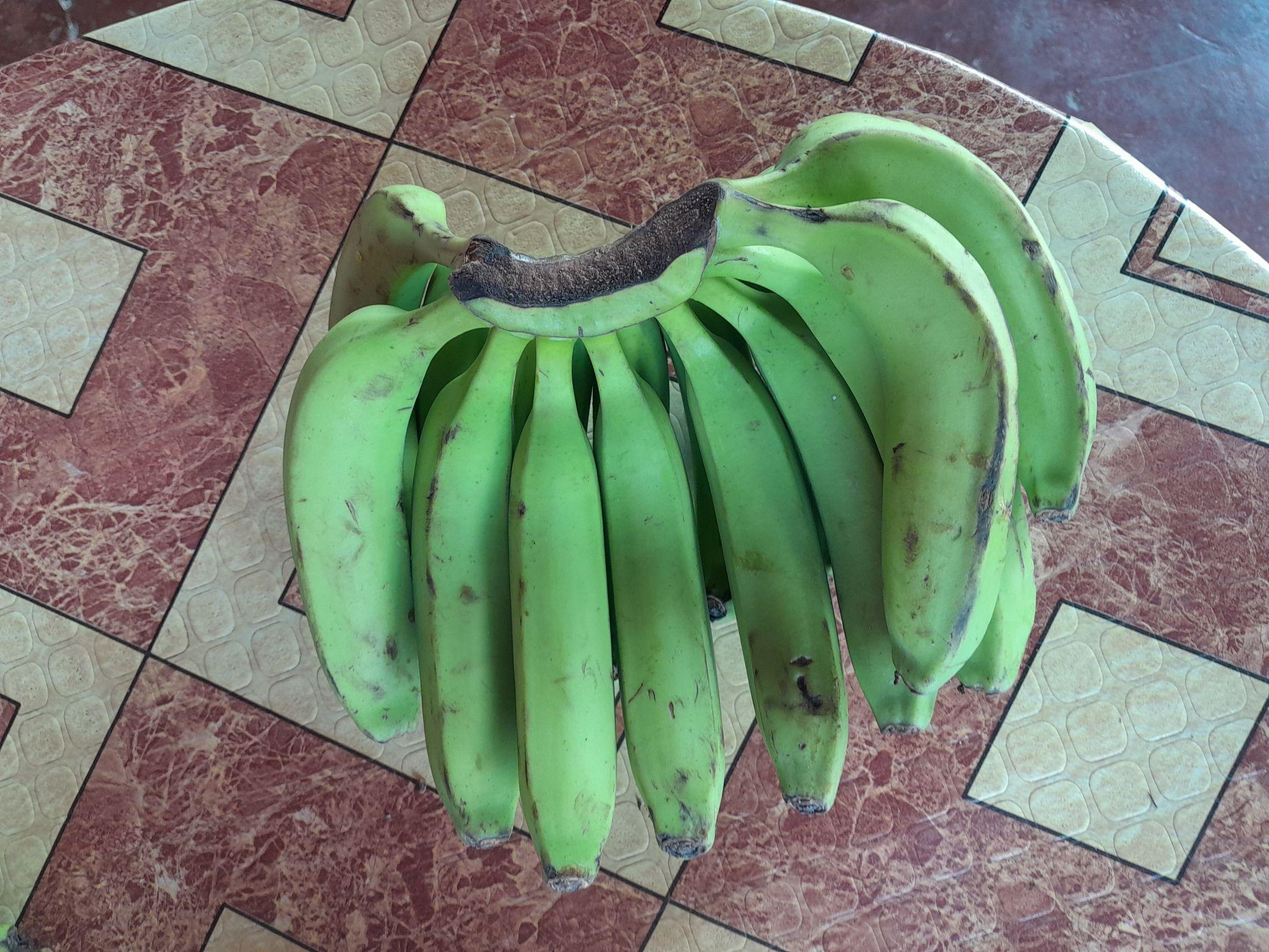Banana Unripe: (716, 186, 1019, 694), (729, 112, 1096, 518), (694, 275, 934, 731), (659, 305, 848, 813), (285, 295, 481, 741), (585, 335, 724, 858), (411, 330, 528, 848), (508, 337, 615, 890), (330, 186, 468, 326)
